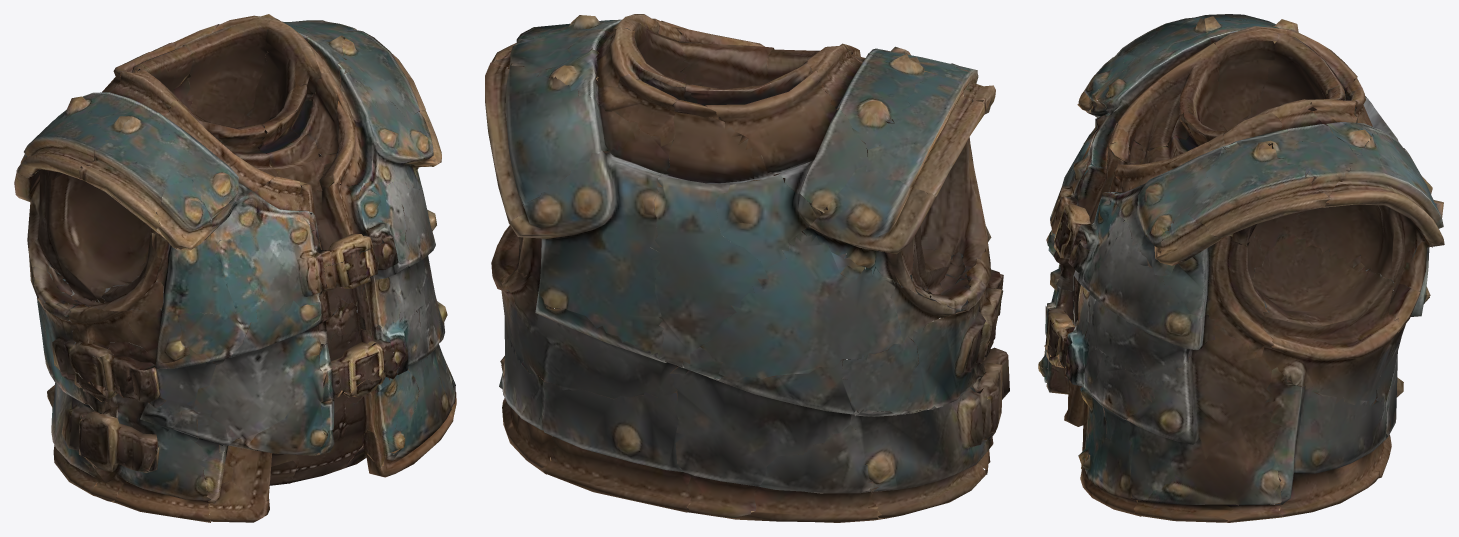
The model's file is armor_town_iron_body.glb.
3 views of the same model, side by side, from view 1: azimuth 30°, elevation 25°; view 2: azimuth 150°, elevation 25°; view 3: azimuth 270°, elevation 25° (orthographic). The views are drawn at different scales.
Visible parts, largest first — view 1: Mesh_0; view 2: Mesh_0; view 3: Mesh_0.
Boxes of the visible parts, <box> form: Mesh_0: <box>14,14,456,522</box>; Mesh_0: <box>485,14,1009,522</box>; Mesh_0: <box>1038,14,1444,522</box>.
Size of the model in its own units: 0.6054 by 0.5736 by 0.5421.
1 material, 1 textured.
